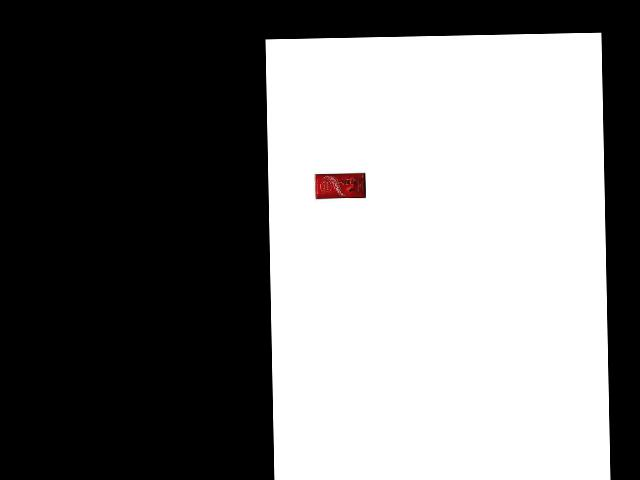chocolate: (313, 171, 369, 199)
